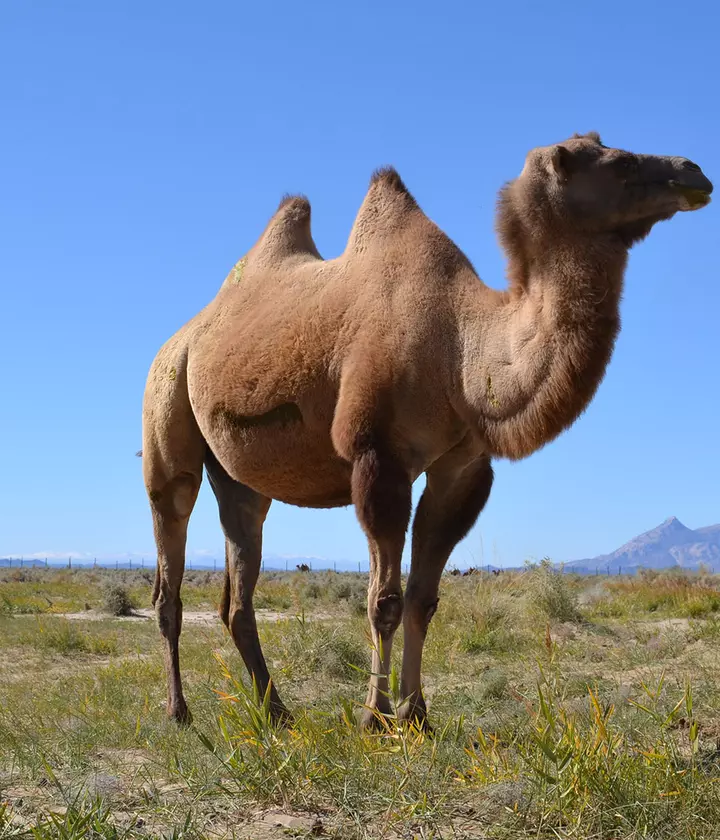camel: (68, 112, 696, 757)
